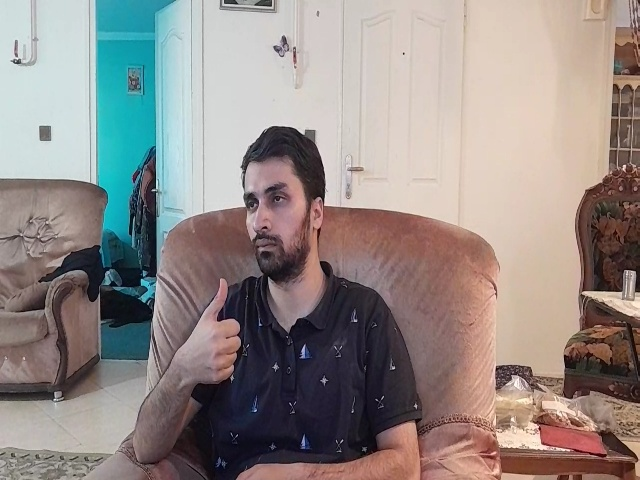ThumbsUp: (181, 276, 241, 390)
